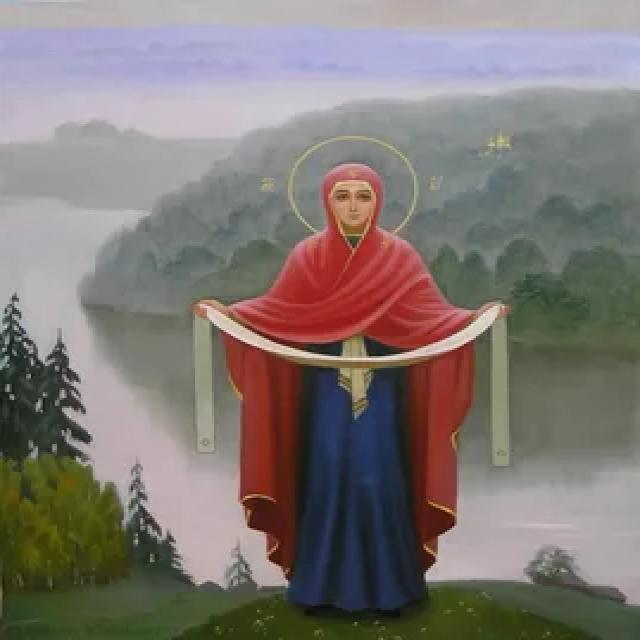mother of god: (197, 152, 516, 616)
